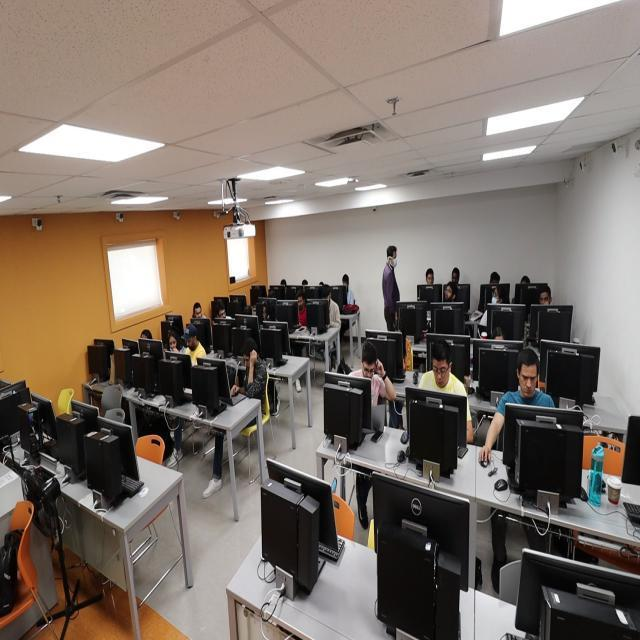Looking away: (520, 363, 536, 399), (432, 358, 449, 388), (362, 360, 374, 382), (539, 291, 550, 307), (243, 354, 253, 371), (492, 288, 501, 304), (186, 335, 195, 350), (445, 286, 452, 302), (218, 308, 226, 322), (169, 336, 177, 350), (297, 296, 304, 310), (323, 294, 331, 306), (194, 308, 202, 320), (427, 273, 434, 284), (342, 280, 348, 292)
